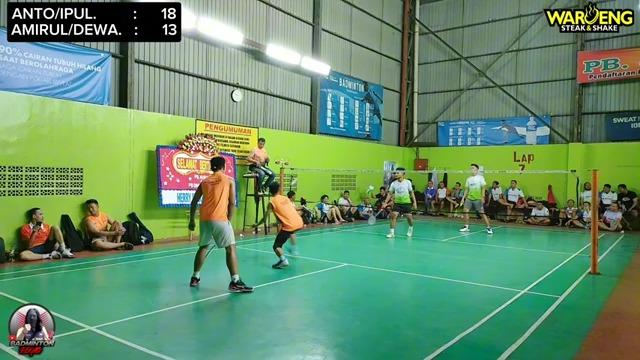Shuttlecock: (290, 176, 300, 188)
